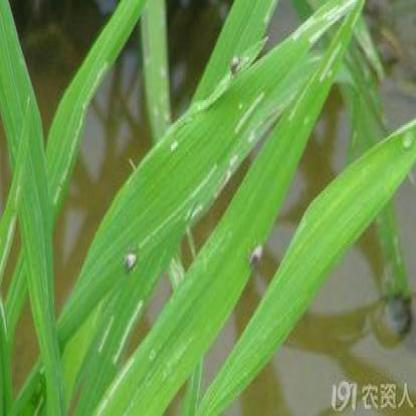rice-bug: (249, 244, 265, 266), (123, 250, 138, 273), (230, 55, 240, 74)
